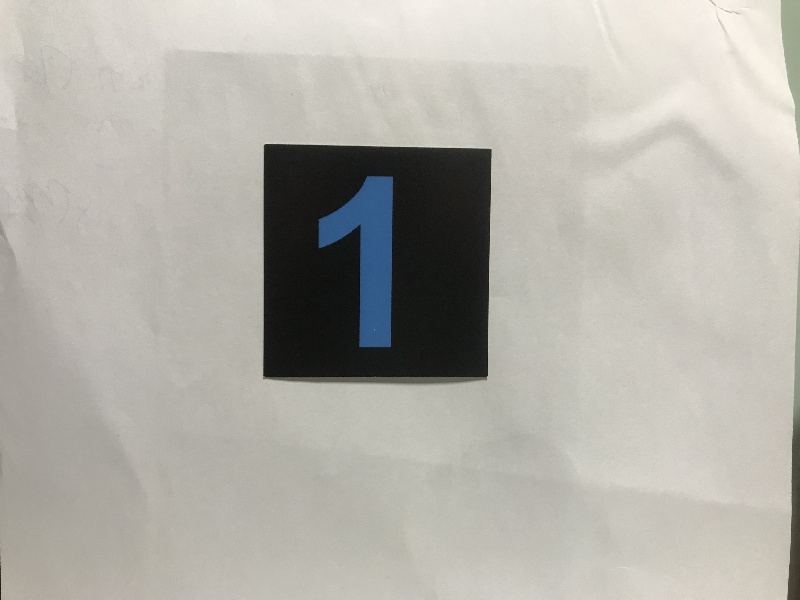One-6: (268, 152, 485, 374)
